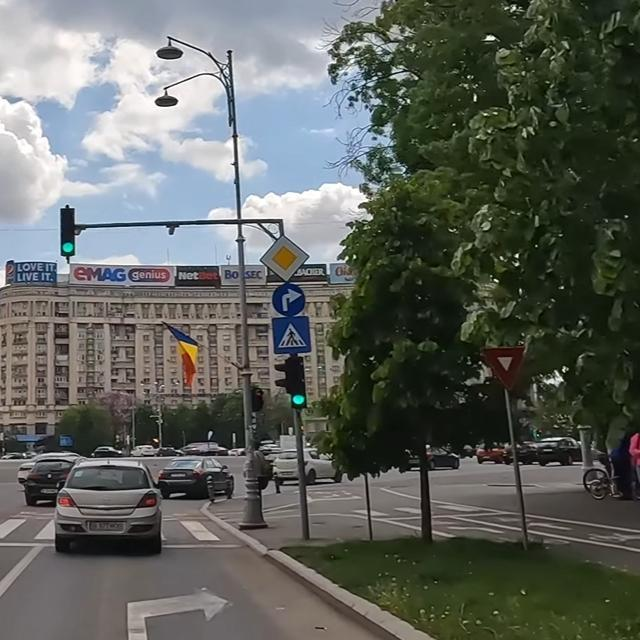info_crosswalk: (271, 315, 312, 354)
prio_give_way: (482, 346, 525, 389)
